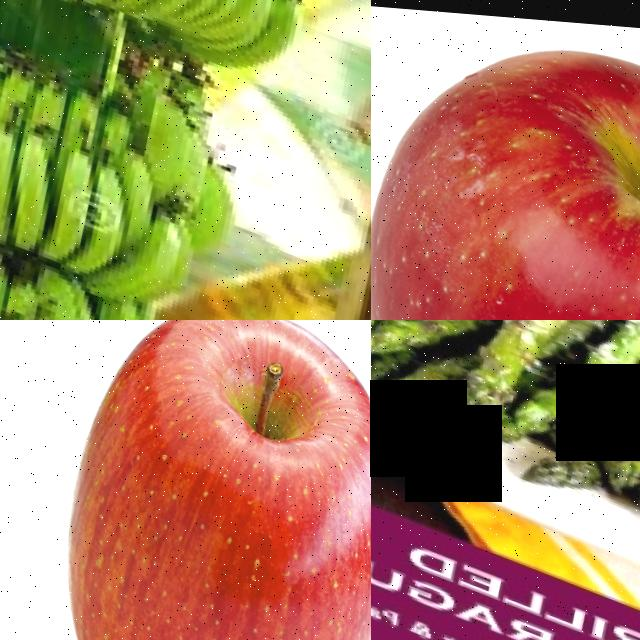apple: (0, 320, 371, 640), (371, 0, 640, 320)
asparagus: (491, 320, 637, 465), (406, 320, 571, 436), (571, 355, 640, 508), (371, 320, 433, 389)
banana: (0, 0, 245, 312), (0, 187, 192, 320), (0, 0, 317, 75)
